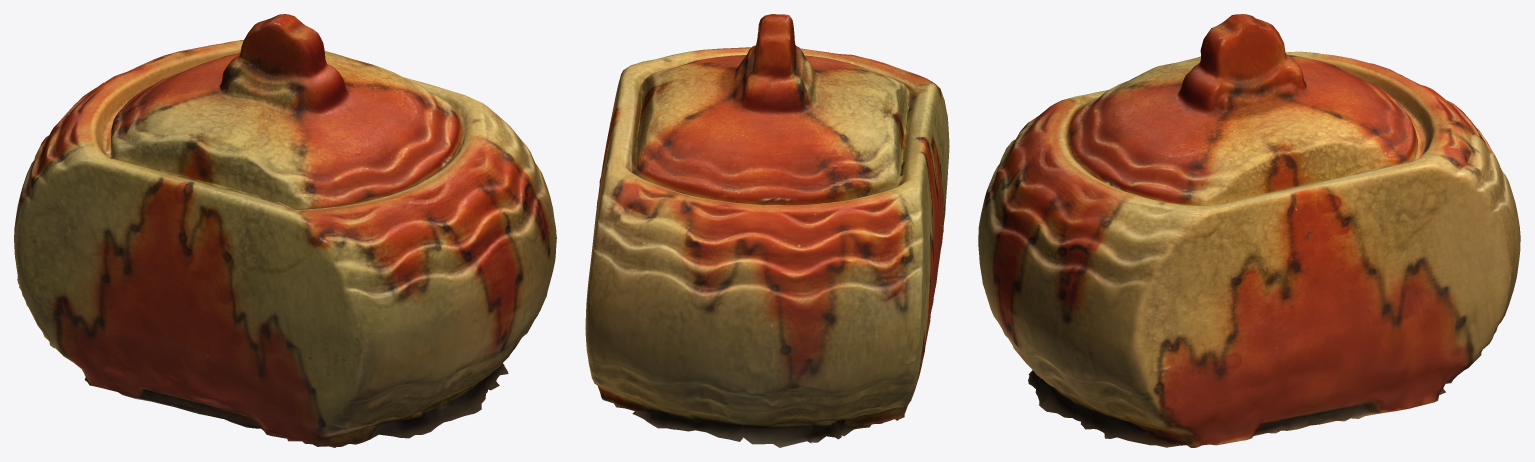
The model's file is Dose.obj.
3 renders of one model, left to right at view 1: azimuth 30°, elevation 25°; view 2: azimuth 150°, elevation 25°; view 3: azimuth 270°, elevation 25°, orthographic. The views are drawn at different scales.
Visible parts, largest first — view 1: 3DModel_LowPoly; view 2: 3DModel_LowPoly; view 3: 3DModel_LowPoly.
Boxes of the visible parts, left/top/right/bottom form: 3DModel_LowPoly: left=14, top=14, right=556, bottom=447; 3DModel_LowPoly: left=585, top=14, right=949, bottom=447; 3DModel_LowPoly: left=978, top=14, right=1520, bottom=447.
Bounding box in the file's own units: 3.24 × 2.56 × 3.58.
Materials: 1 (1 with a texture image).
